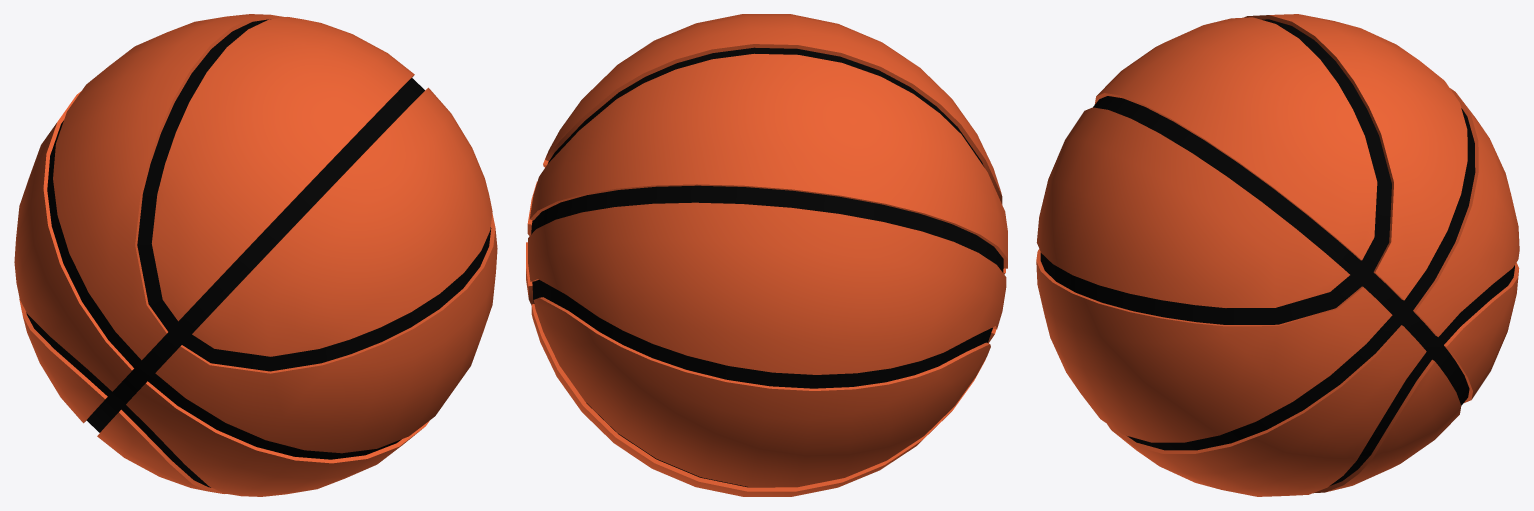
File: basketball.glb
The picture shows the model from 3 angles, left to right: view 1: azimuth 30°, elevation 25°; view 2: azimuth 150°, elevation 25°; view 3: azimuth 270°, elevation 25°; orthographic projection.
Parts seen in each view (by area): view 1: Cube.002; view 2: Cube.002; view 3: Cube.002.
Part boxes in pixels (x1,y1,x2,y2): Cube.002: (14,14,497,496); Cube.002: (526,14,1007,496); Cube.002: (1036,14,1519,496).
Bounding box in the file's own units: 2.06 × 2.06 × 2.06.
